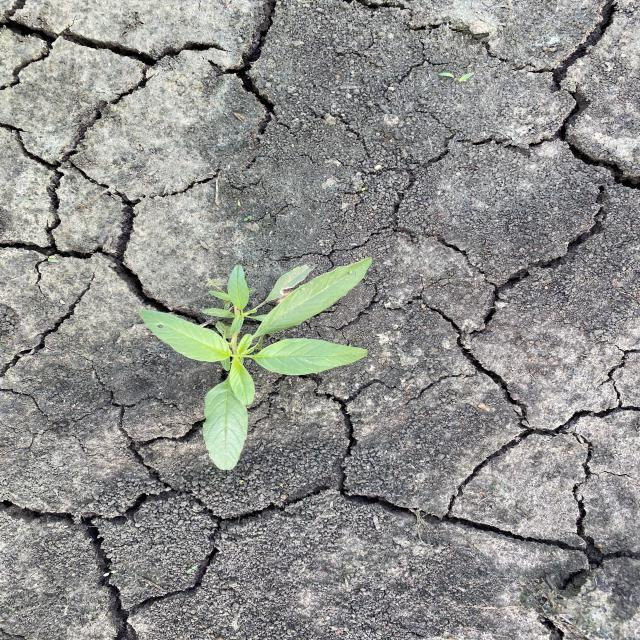Waterhemp: (137, 255, 376, 471)
